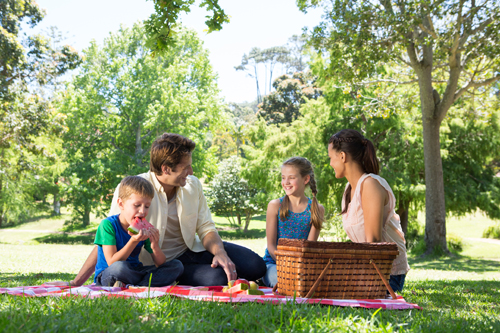Person: (133, 139, 225, 279), (333, 130, 408, 281), (267, 169, 316, 283)
